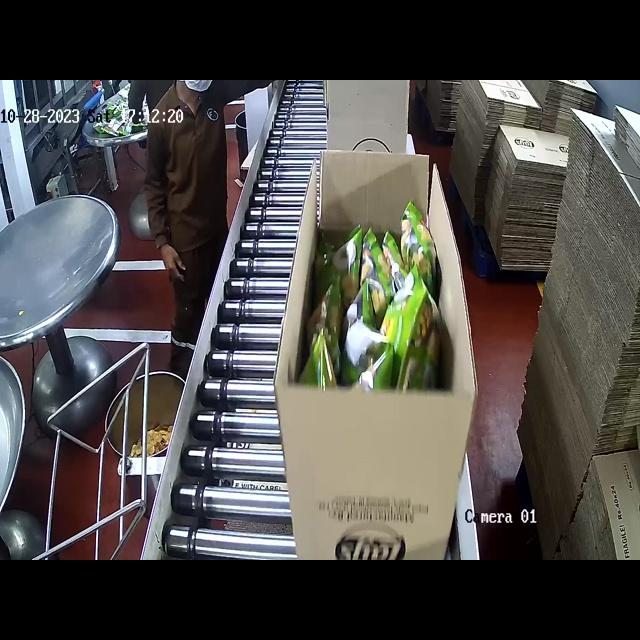yogurt: (324, 215, 446, 403)
